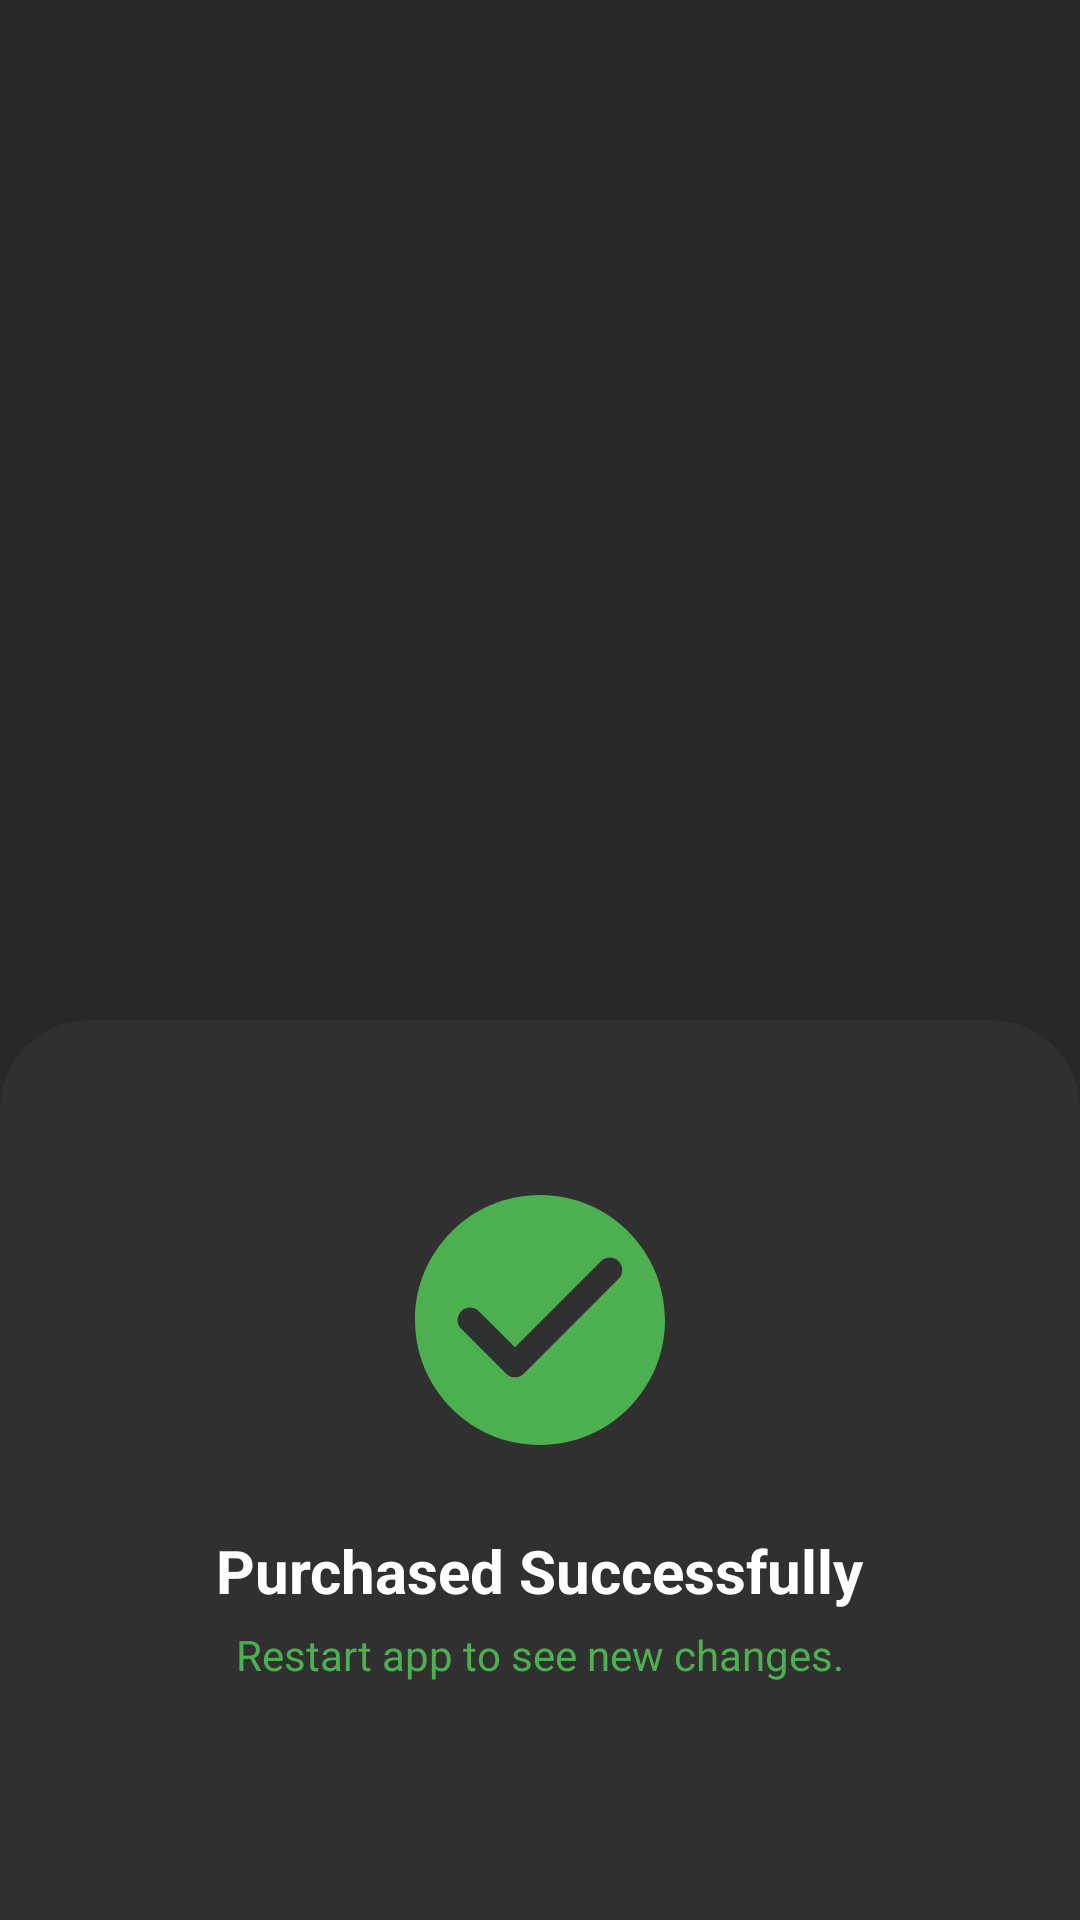

Named icons in this screenshot (1080*1920) and their centers, (x=x, y=y):
done: (x=540, y=1320)
